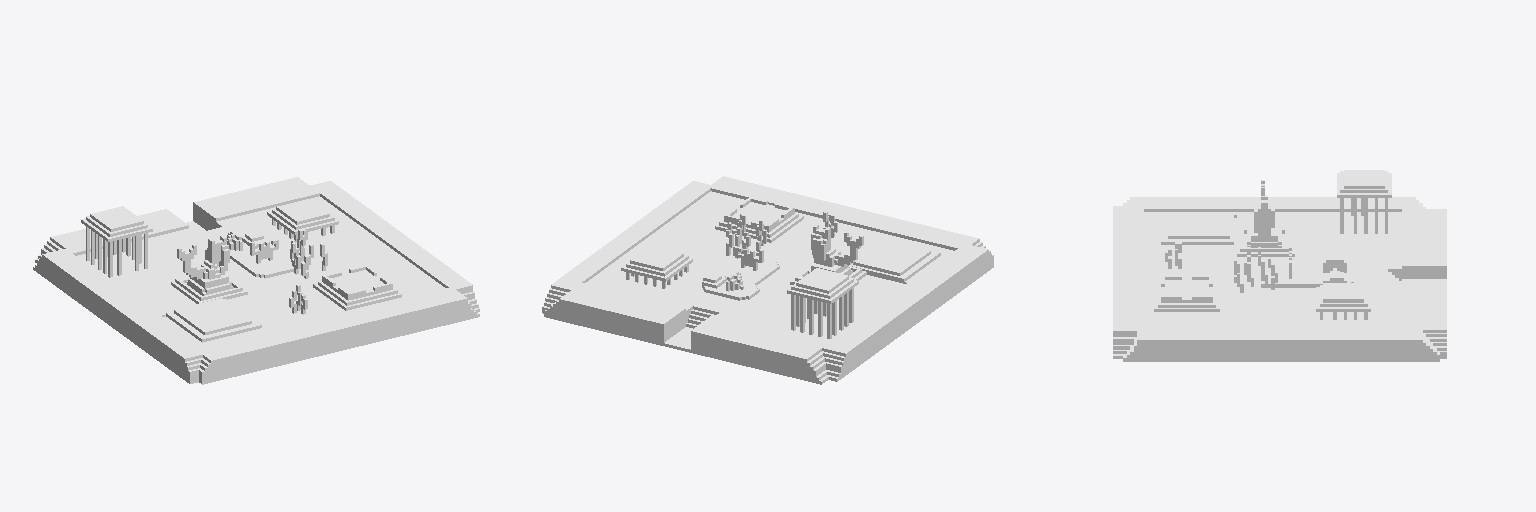
The model's file is sirenas.obj.
3 views of the same model, side by side, from view 1: azimuth 30°, elevation 25°; view 2: azimuth 150°, elevation 25°; view 3: azimuth 270°, elevation 25° (orthographic).
Parts seen in each view (by area): view 1: object 1; view 2: object 1; view 3: object 1.
Part boxes in pixels (left/top/right/bottom): object 1: left=33, top=177, right=479, bottom=384; object 1: left=542, top=176, right=993, bottom=384; object 1: left=1113, top=170, right=1446, bottom=361.
Bounding box in the file's own units: 9.8 × 2.2 × 9.7.